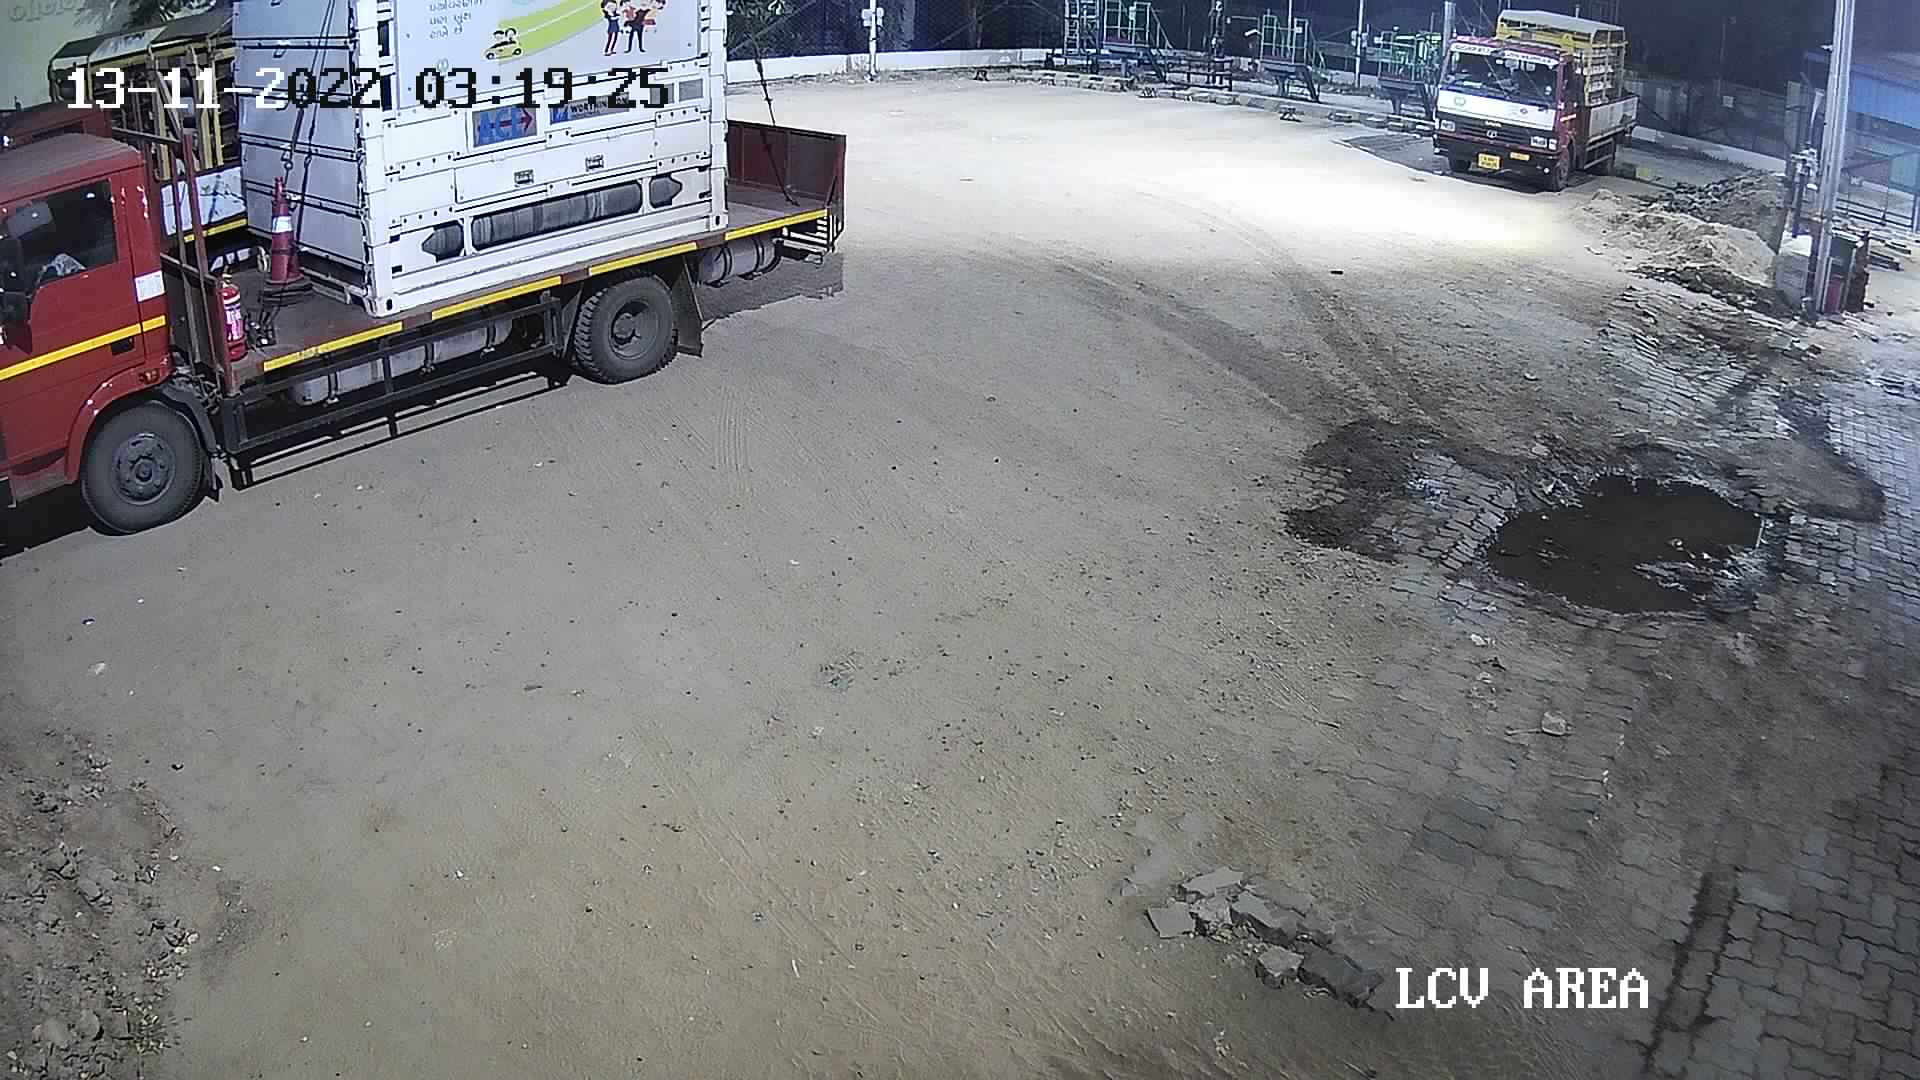HMV: (0, 1, 857, 545), (1, 0, 262, 280), (1414, 0, 1659, 191)
